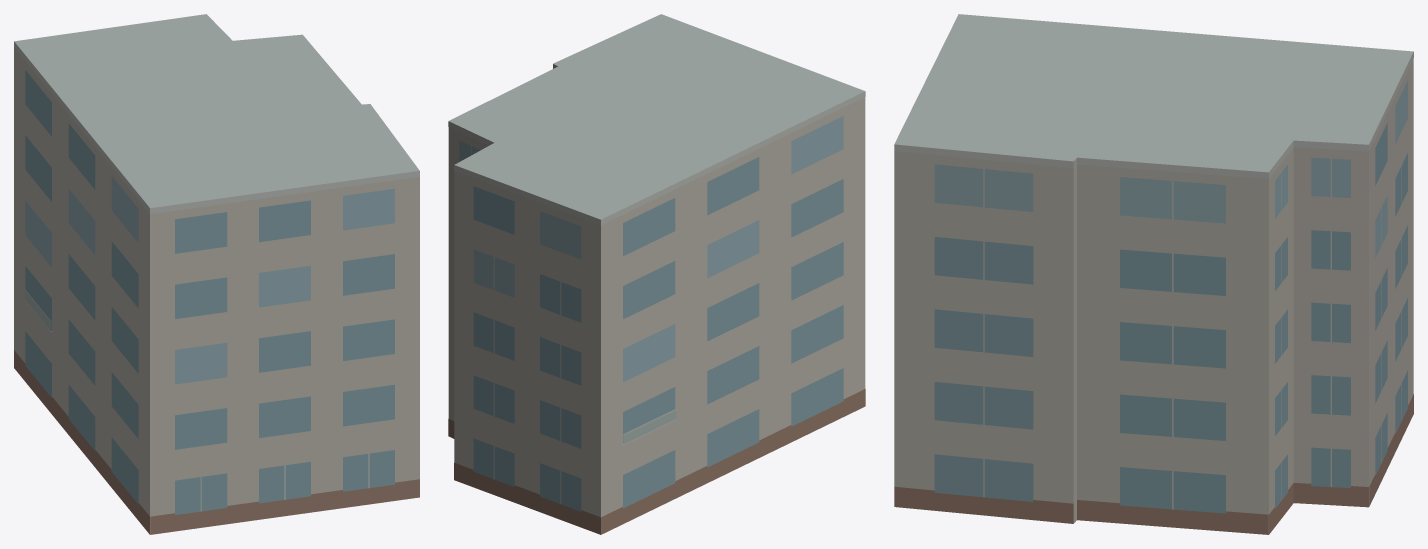
The model's file is survey-upis-32851453.glb.
3 views of the same model, side by side, from view 1: azimuth 30°, elevation 25°; view 2: azimuth 150°, elevation 25°; view 3: azimuth 270°, elevation 25° (orthographic). The views are drawn at different scales.
Parts seen in each view (by area): view 1: survey-upis-32851453.tmp; view 2: survey-upis-32851453.tmp; view 3: survey-upis-32851453.tmp.
Boxes of the visible parts, x1=… form: survey-upis-32851453.tmp: x1=14, y1=14, x2=419, y2=534; survey-upis-32851453.tmp: x1=448, y1=14, x2=865, y2=534; survey-upis-32851453.tmp: x1=894, y1=14, x2=1413, y2=534.
Bounding box in the file's own units: 12.47 × 13.3 × 17.29.
